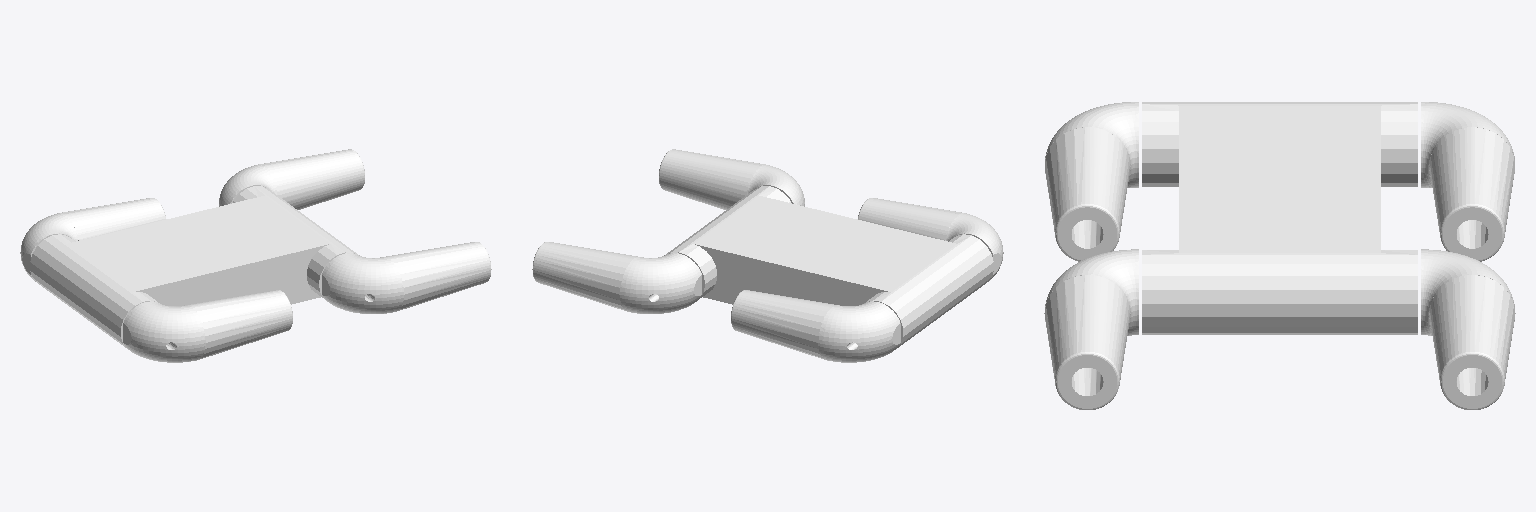
URDF robot description (0_degree):
<?xml version="1.0" encoding="utf-8"?>
<!-- This URDF was automatically created by SolidWorks to URDF Exporter! Originally created by [author] ([email redacted]) 
     Commit Version: 1.5.1-0-g916b5db  Build Version: 1.5.7152.31018
     For more information, please see http://wiki.ros.org/sw_urdf_exporter -->
<robot
  name="0_degree">
  <link
    name="base_link">
    <inertial>
      <origin
        xyz="0 -1.6653E-16 0"
        rpy="0 0 0" />
      <mass
        value="2.942" />
      <inertia
        ixx="0.0103179"
        ixy="-7.4115E-19"
        ixz="-1.4495E-19"
        iyy="0.0369919"
        iyz="7.6011E-18"
        izz="0.0449232" />
    </inertial>
    <visual>
      <origin
        xyz="0 0 0"
        rpy="0 0 0" />
      <geometry>
        <mesh
          filename="package://0_degree/meshes/base_link.STL" />
      </geometry>
      <material
        name="">
        <color
          rgba="1 1 1 1" />
      </material>
    </visual>
    <collision>
      <origin
        xyz="0 0 0"
        rpy="0 0 0" />
      <geometry>
        <mesh
          filename="package://0_degree/meshes/base_link.STL" />
      </geometry>
    </collision>
  </link>
  <link
    name="left_front_link">
    <inertial>
      <origin
        xyz="-2.0031E-08 0.05683 -0.036011"
        rpy="0 0 0" />
      <mass
        value="0.092" />
      <inertia
        ixx="0.0002604"
        ixy="8.3094E-10"
        ixz="4.6217E-10"
        iyy="0.0000526"
        iyz="2.27E-05"
        izz="0.0002575" />
    </inertial>
    <visual>
      <origin
        xyz="0 0 0"
        rpy="0 0 0" />
      <geometry>
        <mesh
          filename="package://0_degree/meshes/left_front_link.STL" />
      </geometry>
      <material
        name="">
        <color
          rgba="1 1 1 1" />
      </material>
    </visual>
    <collision>
      <origin
        xyz="0 0 0"
        rpy="0 0 0" />
      <geometry>
        <mesh
          filename="package://0_degree/meshes/left_front_link.STL" />
      </geometry>
    </collision>
  </link>
  <joint
    name="left_front_leg"
    type="continuous">
    <origin
      xyz="0.13 0.103 0"
      rpy="1.5708 1.5708 0" />
    <parent
      link="base_link" />
    <child
      link="left_front_link" />
    <axis
      xyz="0 0 -1" />
    <limit
      effort="5"
      velocity="487" />
  </joint>
  <link
    name="right_front_link">
    <inertial>
      <origin
        xyz="2.0031E-08 0.05683 0.036011"
        rpy="0 0 0" />
      <mass
        value="0.092" />
      <inertia
        ixx="0.0002604"
        ixy="-8.3094E-10"
        ixz="4.6217E-10"
        iyy="0.0000526"
        iyz="-2.27E-05"
        izz="0.0002575" />
    </inertial>
    <visual>
      <origin
        xyz="0 0 0"
        rpy="0 0 0" />
      <geometry>
        <mesh
          filename="package://0_degree/meshes/right_front_link.STL" />
      </geometry>
      <material
        name="">
        <color
          rgba="1 1 1 1" />
      </material>
    </visual>
    <collision>
      <origin
        xyz="0 0 0"
        rpy="0 0 0" />
      <geometry>
        <mesh
          filename="package://0_degree/meshes/right_front_link.STL" />
      </geometry>
    </collision>
  </link>
  <joint
    name="right_front_leg"
    type="continuous">
    <origin
      xyz="0.13 -0.103 0"
      rpy="1.5708 1.5708 0" />
    <parent
      link="base_link" />
    <child
      link="right_front_link" />
    <axis
      xyz="0 0 1" />
    <limit
      effort="5"
      velocity="487" />
  </joint>
  <link
    name="right_back_link">
    <inertial>
      <origin
        xyz="2.0031E-08 0.05683 0.036011"
        rpy="0 0 0" />
      <mass
        value="0.092" />
      <inertia
        ixx="0.0002604"
        ixy="-8.3094E-10"
        ixz="4.6217E-10"
        iyy="0.0000526"
        iyz="-2.27E-05"
        izz="0.0002575" />
    </inertial>
    <visual>
      <origin
        xyz="0 0 0"
        rpy="0 0 0" />
      <geometry>
        <mesh
          filename="package://0_degree/meshes/right_back_link.STL" />
      </geometry>
      <material
        name="">
        <color
          rgba="1 1 1 1" />
      </material>
    </visual>
    <collision>
      <origin
        xyz="0 0 0"
        rpy="0 0 0" />
      <geometry>
        <mesh
          filename="package://0_degree/meshes/right_back_link.STL" />
      </geometry>
    </collision>
  </link>
  <joint
    name="right_back_leg"
    type="continuous">
    <origin
      xyz="-0.13 -0.103 0"
      rpy="1.5708 1.5708 0" />
    <parent
      link="base_link" />
    <child
      link="right_back_link" />
    <axis
      xyz="0 0 1" />
    <limit
      effort="5"
      velocity="487" />
  </joint>
  <link
    name="left_back_link">
    <inertial>
      <origin
        xyz="-2.0031E-08 0.05683 -0.036011"
        rpy="0 0 0" />
      <mass
        value="0.092" />
      <inertia
        ixx="0.0002604"
        ixy="8.3094E-10"
        ixz="4.6217E-10"
        iyy="0.0000526"
        iyz="2.27E-05"
        izz="0.0002575" />
    </inertial>
    <visual>
      <origin
        xyz="0 0 0"
        rpy="0 0 0" />
      <geometry>
        <mesh
          filename="package://0_degree/meshes/left_back_link.STL" />
      </geometry>
      <material
        name="">
        <color
          rgba="1 1 1 1" />
      </material>
    </visual>
    <collision>
      <origin
        xyz="0 0 0"
        rpy="0 0 0" />
      <geometry>
        <mesh
          filename="package://0_degree/meshes/left_back_link.STL" />
      </geometry>
    </collision>
  </link>
  <joint
    name="left_back_leg"
    type="continuous">
    <origin
      xyz="-0.13 0.103 0"
      rpy="1.5708 1.5708 0" />
    <parent
      link="base_link" />
    <child
      link="left_back_link" />
    <axis
      xyz="0 0 -1" />
    <limit
      effort="5"
      velocity="487" />
  </joint>
</robot>

--- What the picture shows (computed from the rendered views, not written in the file) ---
The picture shows the robot from 3 angles, left to right: view 1: azimuth 30°, elevation 25°; view 2: azimuth 150°, elevation 25°; view 3: azimuth 270°, elevation 25°; orthographic projection.
Model 0_degree with 5 links and 4 joints (4 continuous), rooted at base_link, posed every joint at zero.
Links seen in each view (by area): view 1: base_link, right_back_link, right_front_link, left_front_link, left_back_link; view 2: base_link, left_back_link, left_front_link, right_front_link, right_back_link; view 3: base_link, left_front_link, right_front_link, right_back_link, left_back_link.
Link boxes in pixels (box(x1,y1,x2,y2)): base_link: box(30, 186, 359, 347); right_back_link: box(123, 290, 292, 362); right_front_link: box(322, 242, 491, 313); left_front_link: box(219, 149, 364, 209); left_back_link: box(20, 198, 165, 281); base_link: box(664, 186, 993, 347); left_back_link: box(731, 290, 900, 362); left_front_link: box(532, 242, 701, 313); right_front_link: box(659, 149, 804, 209); right_back_link: box(858, 198, 1003, 281); base_link: box(1142, 102, 1417, 334); left_front_link: box(1421, 249, 1515, 409); right_front_link: box(1044, 249, 1138, 409); right_back_link: box(1045, 102, 1138, 261); left_back_link: box(1421, 102, 1514, 261).
Size in the robot's own frame: 0.4496 by 0.3504 by 0.064 metres.
5 mesh visuals loaded from 5 distinct referenced files (5 binary STL).